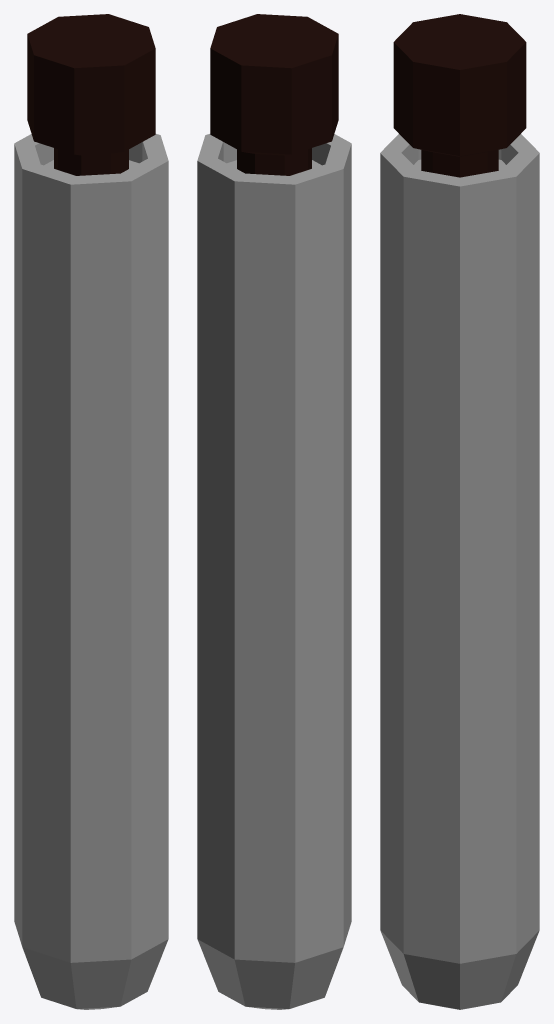
The model's file is Potion4.obj.
The picture shows the model from 3 angles, left to right: view 1: azimuth 30°, elevation 25°; view 2: azimuth 150°, elevation 25°; view 3: azimuth 270°, elevation 25°; orthographic projection.
Parts seen in each view (by area): view 1: Potion4_Cylinder.015; view 2: Potion4_Cylinder.015; view 3: Potion4_Cylinder.015.
Boxes of the visible parts, bbox=[...] form: Potion4_Cylinder.015: bbox=[14, 14, 168, 1009]; Potion4_Cylinder.015: bbox=[197, 14, 351, 1009]; Potion4_Cylinder.015: bbox=[380, 14, 539, 1009].
Size of the model in its own units: 0.1439 by 0.9538 by 0.1439.
